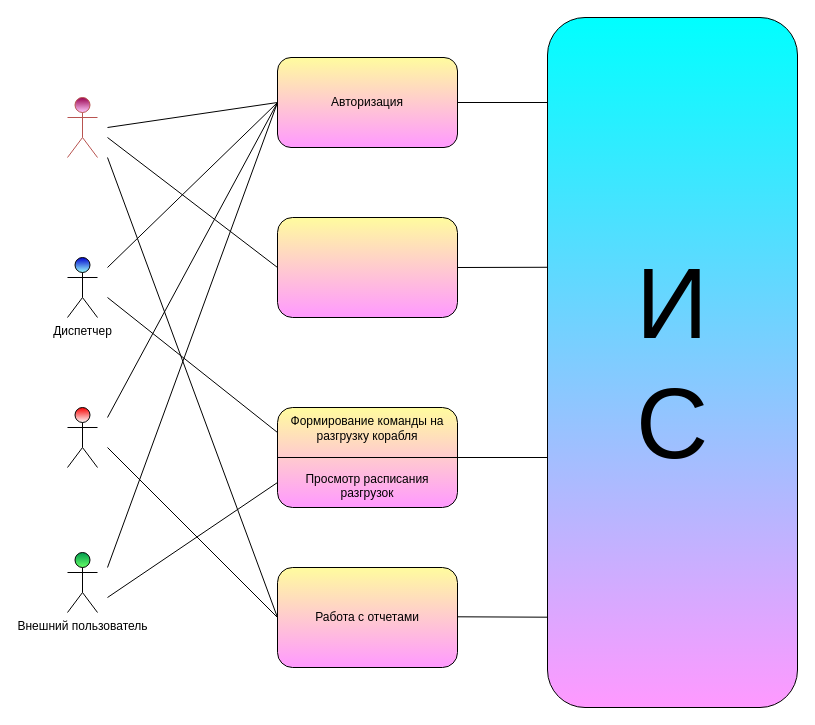
Some shapes in this 815 by 725 pixel diagram are drawn without their labels. Each missing label, with the box of its shape:
Аналитик: (66, 96, 98, 158)
Менеджер: (66, 406, 98, 468)
Работа с запросами: (276, 216, 458, 318)
